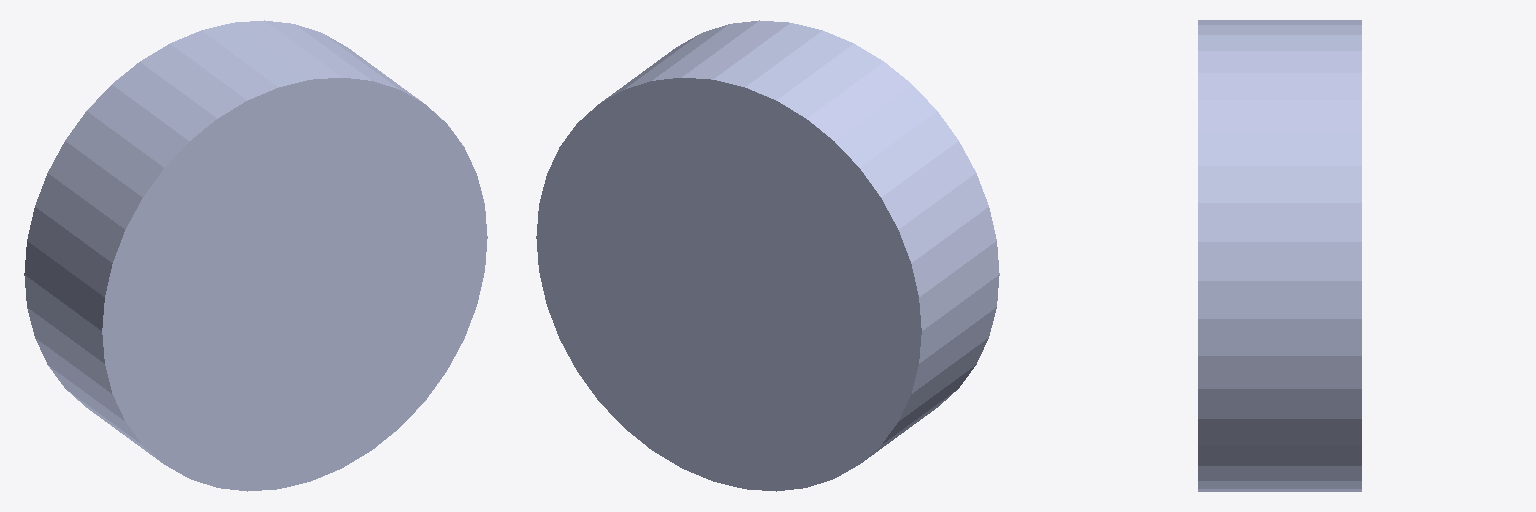
The robot description file, URDF, robot "urdf_test_02":
<?xml version="1.0" encoding="utf-8"?>
<!-- This URDF was automatically created by SolidWorks to URDF Exporter! Originally created by [author] ([email redacted]) 
     Commit Version: 1.6.0-4-g7f85cfe  Build Version: 1.6.7995.38578
     For more information, please see http://wiki.ros.org/sw_urdf_exporter -->
<robot
  name="urdf_test_02">
  <link
    name="base_link">
    <inertial>
      <origin
        xyz="-9.74542958129844E-19 0 0.0175"
        rpy="0 0 0" />
      <mass
        value="0.274889357189107" />
      <inertia
        ixx="0.000199867470122913"
        ixy="0"
        ixz="0"
        iyy="0.000199867470122913"
        iyz="-4.64813050641476E-37"
        izz="0.000343611696486384" />
    </inertial>
    <visual>
      <origin
        xyz="0 0 0"
        rpy="0 0 0" />
      <geometry>
        <mesh
          filename="package://urdf_test_02/meshes/base_link.STL" />
      </geometry>
      <material
        name="">
        <color
          rgba="0.792156862745098 0.819607843137255 0.933333333333333 1" />
      </material>
    </visual>
    <collision>
      <origin
        xyz="0 0 0"
        rpy="0 0 0" />
      <geometry>
        <mesh
          filename="package://urdf_test_02/meshes/base_link.STL" />
      </geometry>
    </collision>
  </link>
</robot>

--- Render facts (derived) ---
3 views of the same robot in one strip: view 1: azimuth 30°, elevation 25°; view 2: azimuth 150°, elevation 25°; view 3: azimuth 270°, elevation 25° (orthographic).
Model urdf_test_02 with 1 links and 0 joints (none), rooted at base_link, posed every joint at zero.
Visible links, largest first — view 1: base_link; view 2: base_link; view 3: base_link.
Link boxes in pixels (<box>): base_link: <box>24,20,487,491</box>; base_link: <box>536,20,999,491</box>; base_link: <box>1198,20,1361,491</box>.
Bounding box of the posed robot: 0.1 × 0.035 × 0.0997 m (x, y, z).
Meshes: 1 distinct files referenced, 1 mesh visuals loaded (1 binary STL).